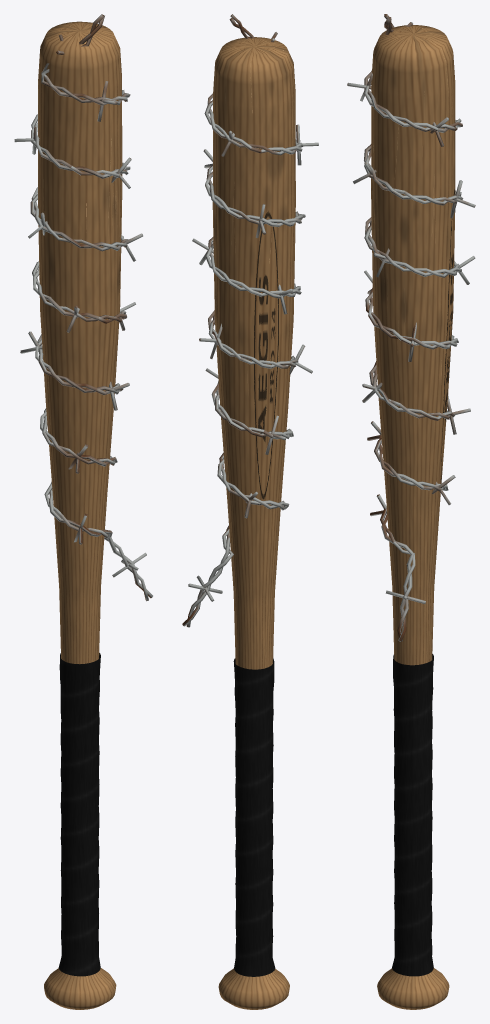
File: barbed_wire_bat.glb
The picture shows the model from 3 angles, left to right: view 1: azimuth 30°, elevation 25°; view 2: azimuth 210°, elevation 25°; view 3: azimuth 270°, elevation 25°; orthographic projection.
Parts seen in each view (by area): view 1: BarbedWireBat_Clean_wood, BarbedWireBat_Clean_tape, BarbedWireBat_Clean_wire; view 2: BarbedWireBat_Clean_wood, BarbedWireBat_Clean_tape, BarbedWireBat_Clean_wire; view 3: BarbedWireBat_Clean_wood, BarbedWireBat_Clean_tape, BarbedWireBat_Clean_wire.
Boxes of the visible parts, box(x1,y1,x2,y2) form: BarbedWireBat_Clean_wood: box(38, 21, 122, 1009); BarbedWireBat_Clean_tape: box(58, 653, 100, 976); BarbedWireBat_Clean_wire: box(14, 14, 152, 601); BarbedWireBat_Clean_wood: box(212, 37, 295, 1009); BarbedWireBat_Clean_tape: box(233, 658, 275, 976); BarbedWireBat_Clean_wire: box(182, 14, 318, 627); BarbedWireBat_Clean_wood: box(371, 25, 455, 1009); BarbedWireBat_Clean_tape: box(392, 654, 433, 976); BarbedWireBat_Clean_wire: box(347, 14, 475, 641).
Size of the model in its own units: 0.111 by 0.8617 by 0.1009.
Materials: 3 (3 with a texture image).
